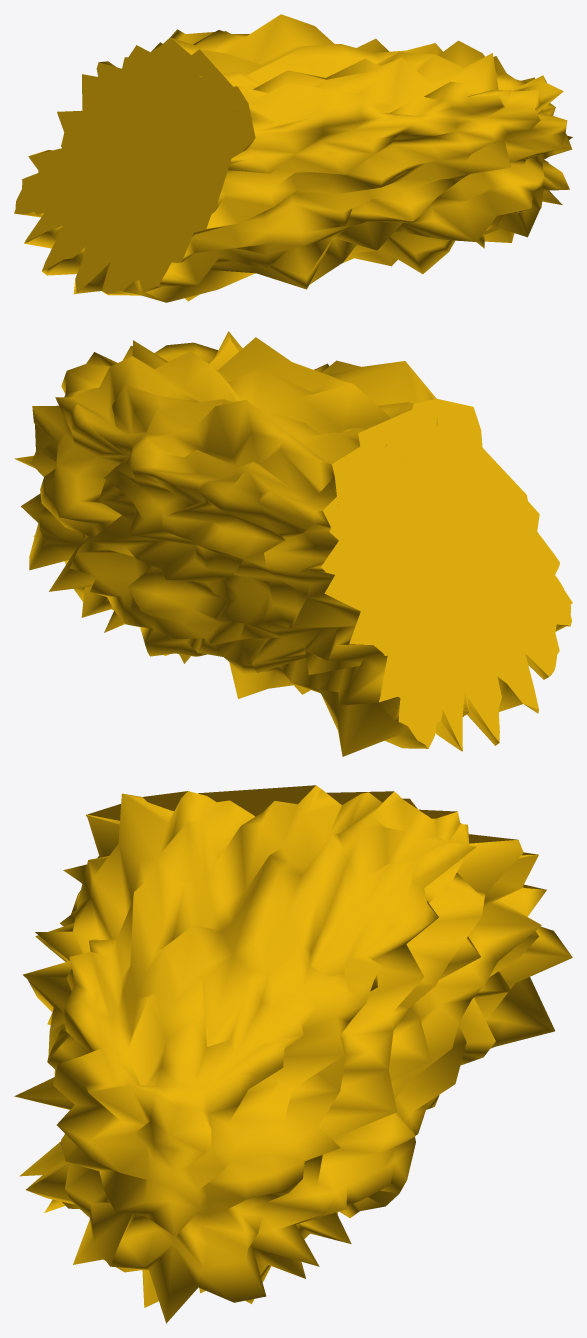
The model's file is 切ったささみ4.fbx.
3 renders of one model, top to bottom at view 1: azimuth 30°, elevation 25°; view 2: azimuth 150°, elevation 25°; view 3: azimuth 270°, elevation 25°, orthographic. The views are drawn at different scales.
Visible parts, largest first — view 1: 平面.007; view 2: 平面.007; view 3: 平面.007.
Boxes of the visible parts, x1,y1,x2,y2 form: 平面.007: (14, 14, 572, 302); 平面.007: (14, 331, 572, 756); 平面.007: (14, 785, 572, 1323).
Bounding box in the file's own units: 0.8848 × 0.4225 × 0.6007.
